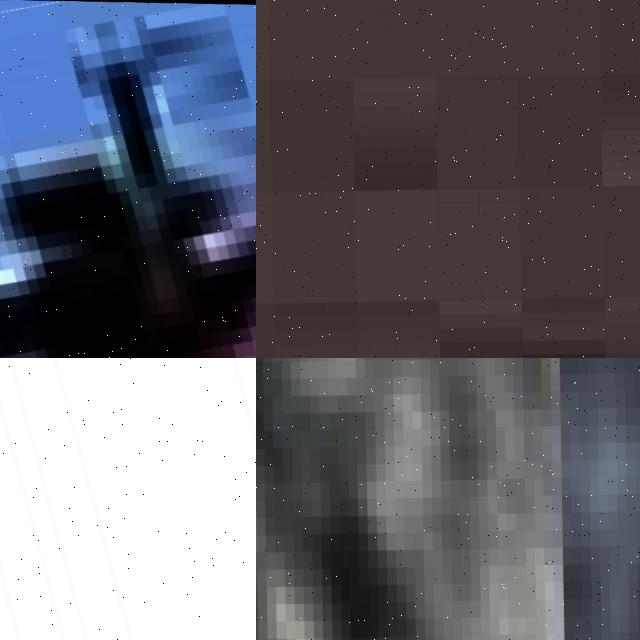0: (0, 0, 256, 358)
drone: (0, 358, 256, 640)
